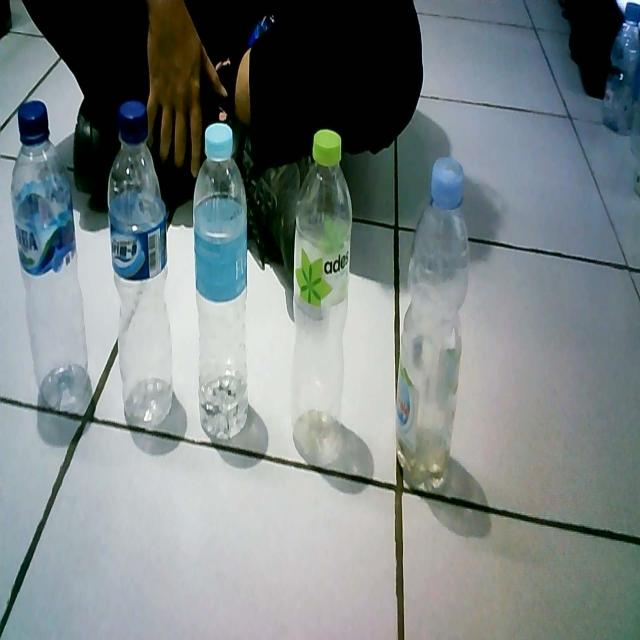botol: (382, 133, 482, 520), (285, 101, 370, 521), (178, 99, 272, 474), (2, 97, 97, 453), (97, 104, 183, 442)
